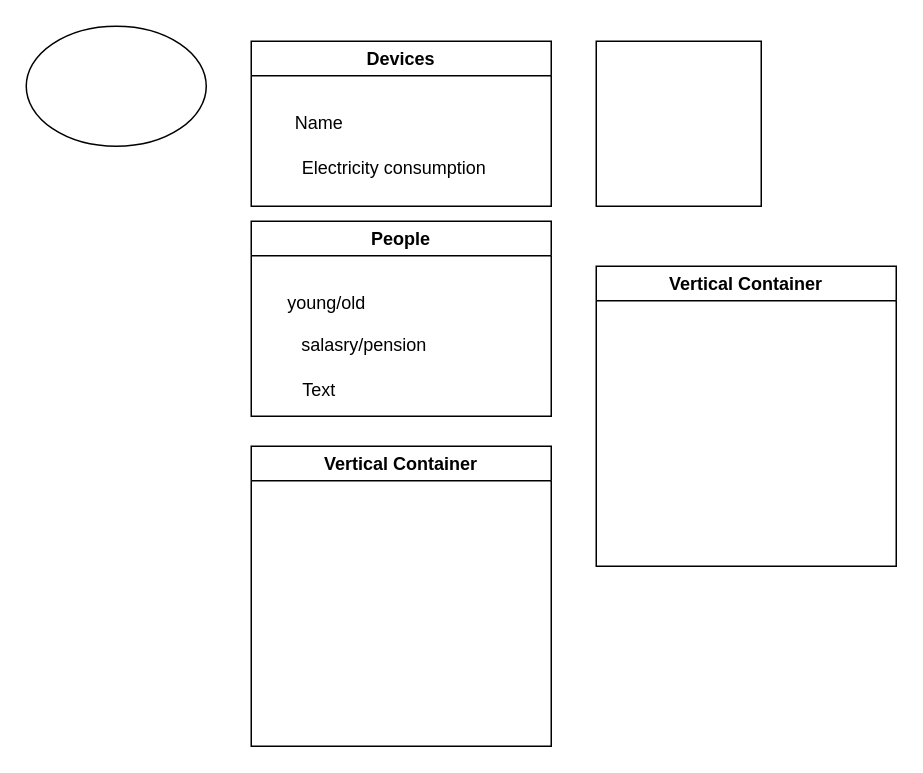
Some shapes in this 923 by 773 pixel diagram are drawn without their labels. Here are the shapes that lost their labels. From the top down, the centre of each, then its label:
At point (115, 85): "Home".
At point (678, 123): "HomeRegister".
